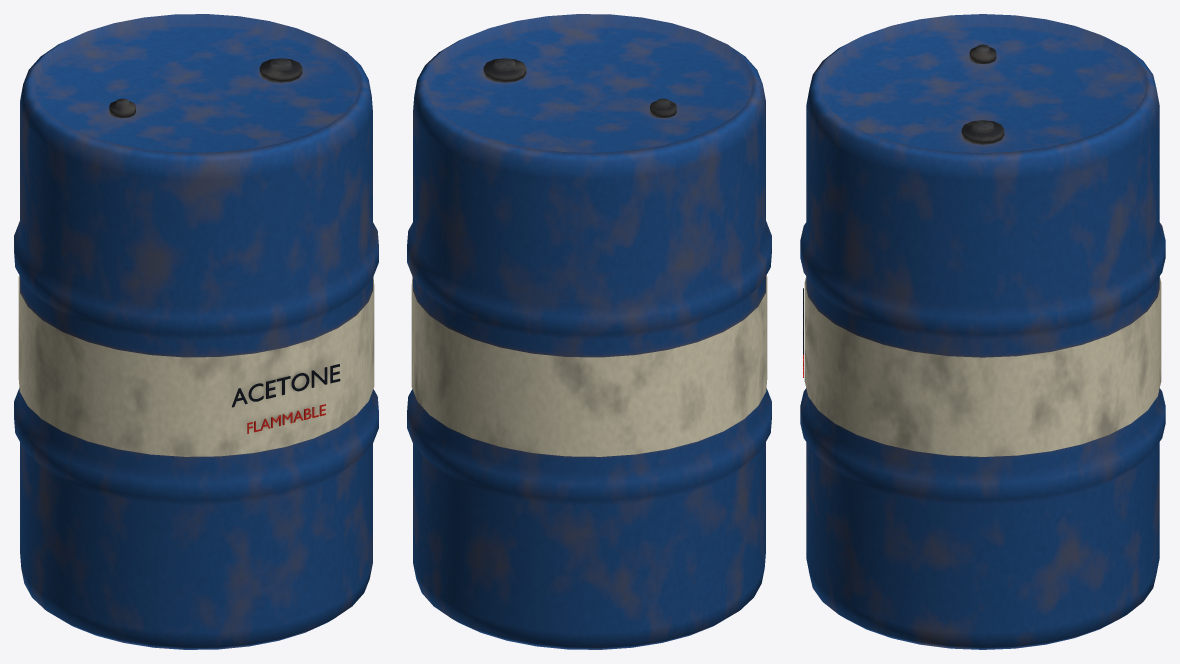
The model's file is lab_beczka.glb.
The picture shows the model from 3 angles, left to right: view 1: azimuth 30°, elevation 25°; view 2: azimuth 150°, elevation 25°; view 3: azimuth 270°, elevation 25°; orthographic projection.
Visible parts, largest first — view 1: Beczka, Napisy; view 2: Beczka; view 3: Beczka.
Part boxes in pixels (x1=…): Beczka: x1=14, y1=14, x2=378, y2=649; Napisy: x1=232, y1=364, x2=340, y2=433; Beczka: x1=407, y1=14, x2=771, y2=649; Beczka: x1=800, y1=14, x2=1165, y2=649.
Size of the model in its own units: 0.6 by 0.9 by 0.6.
Materials: 3 (1 with a texture image).
